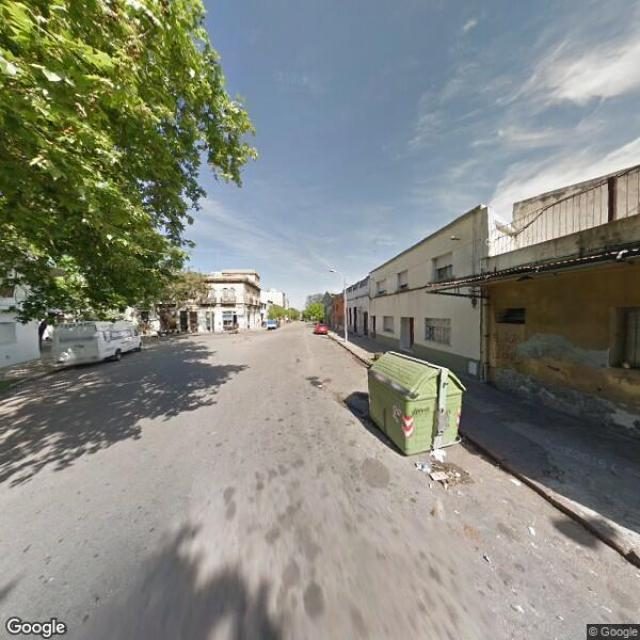garbage container: (352, 344, 474, 473)
